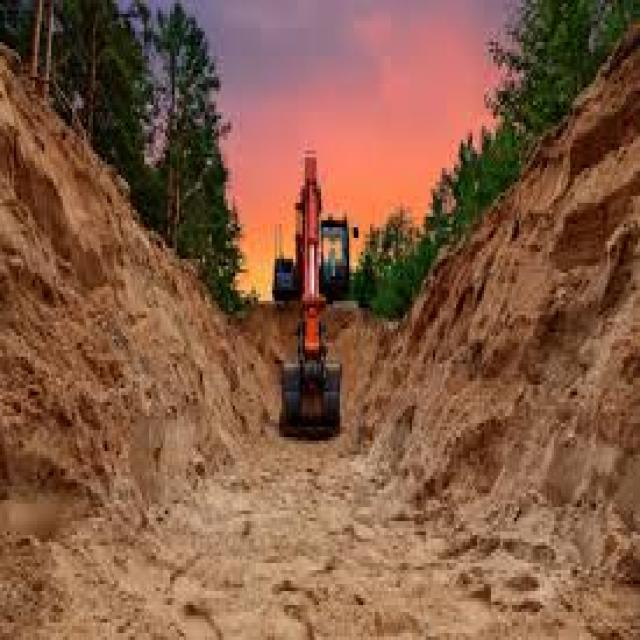Site Excavation: (38, 112, 568, 579)
